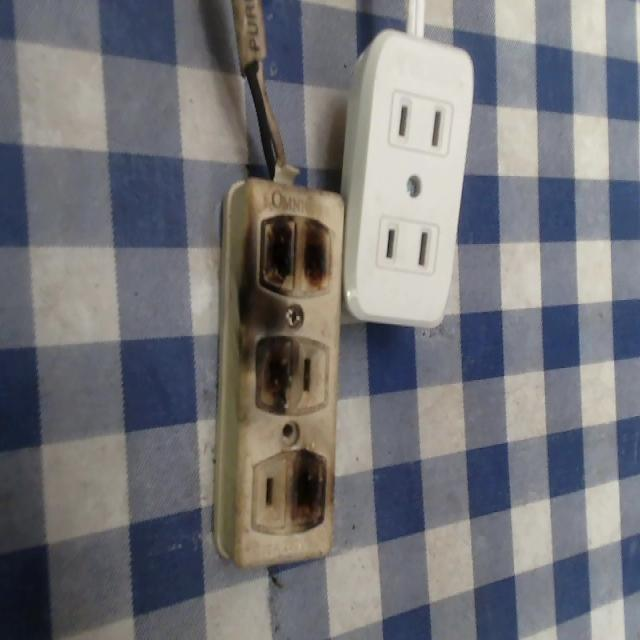-: (252, 209, 336, 303), (247, 329, 303, 412), (285, 443, 327, 537)
